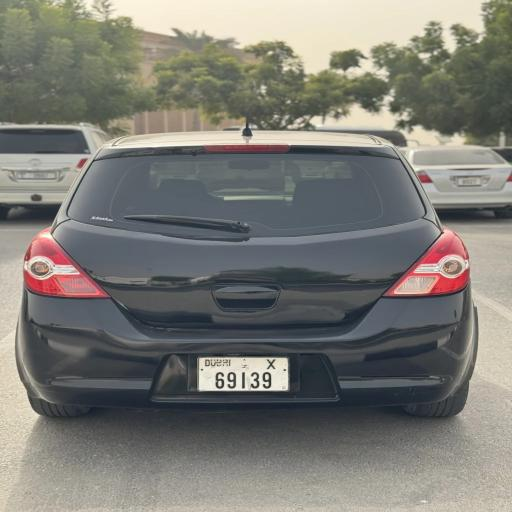license-plates: (198, 357, 288, 391), (456, 176, 481, 186), (17, 172, 56, 178)
